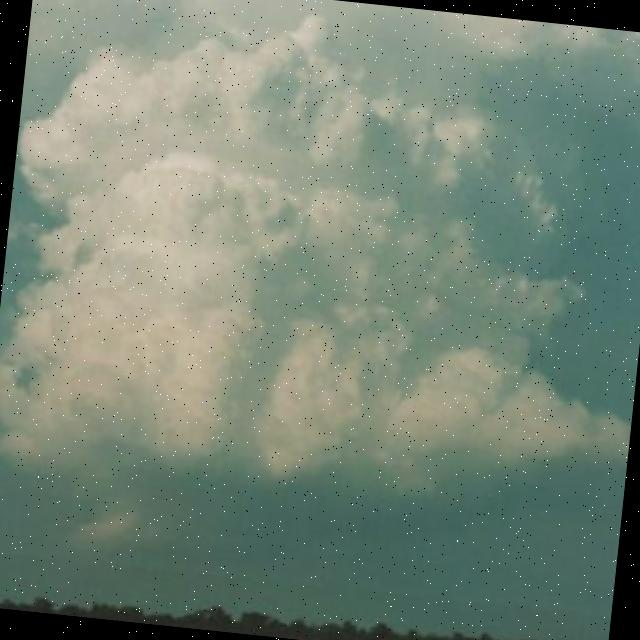Cb: (1, 14, 640, 548)
